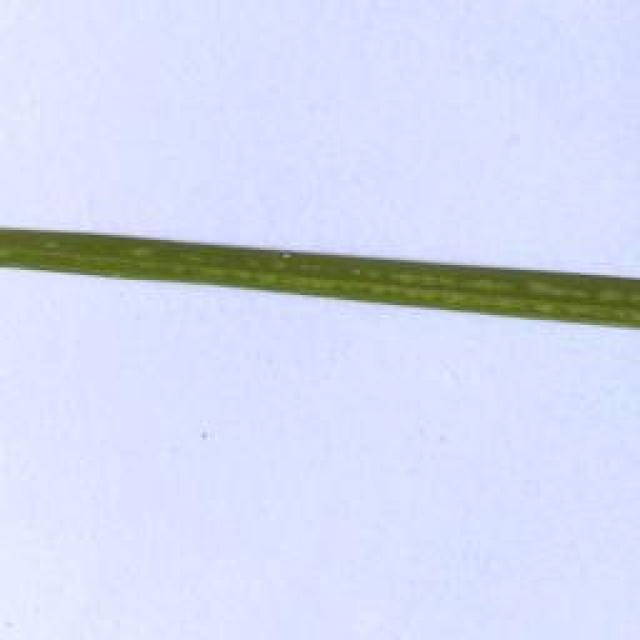Healthy-Plant: (0, 214, 640, 333)
